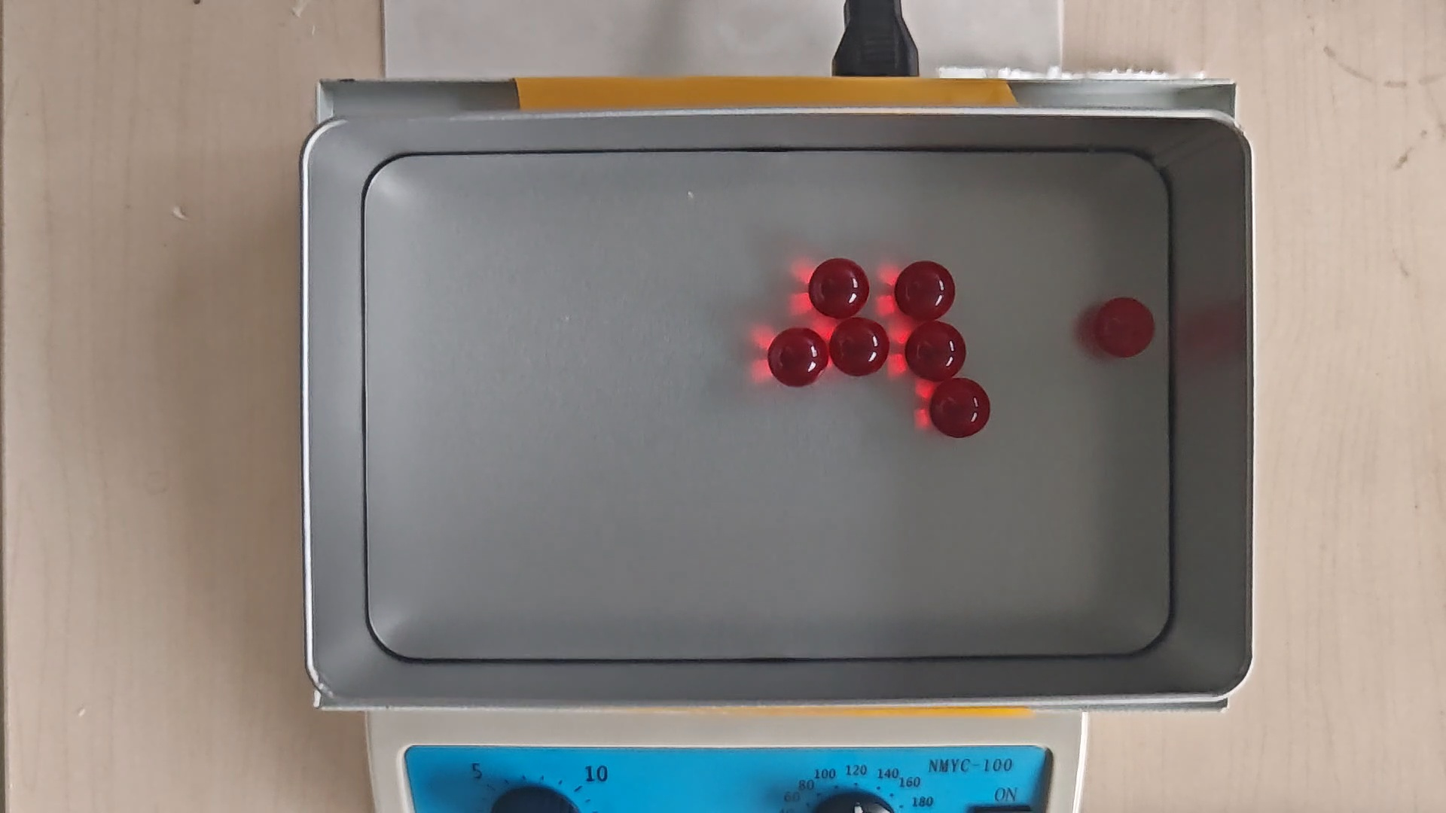ball: (807, 258, 869, 319), (894, 259, 955, 321), (905, 319, 966, 381), (930, 378, 991, 440), (1094, 297, 1156, 358), (767, 327, 828, 388), (828, 317, 889, 377)
container: (361, 151, 1173, 658)
